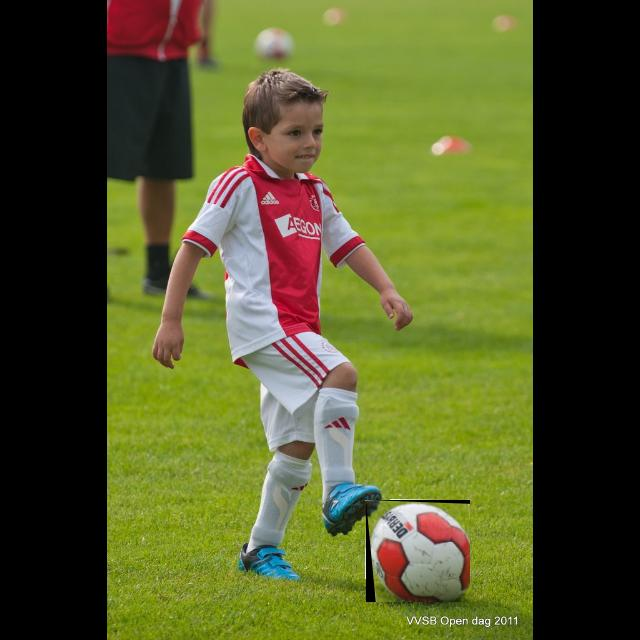Football: (366, 500, 470, 602)
